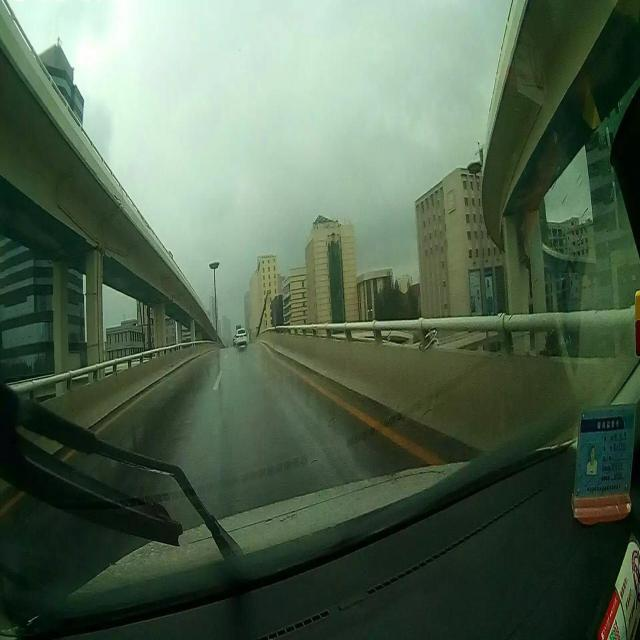car: (235, 328, 248, 346)
